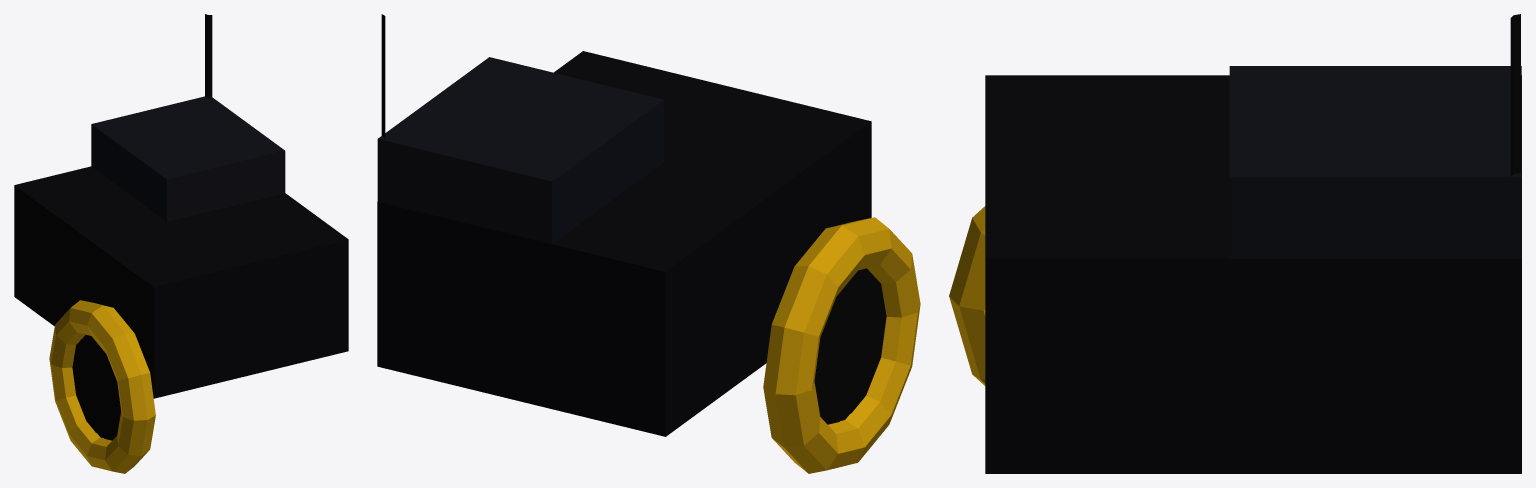
Rendered from rover7.obj.
3 renders of one model, left to right at view 1: azimuth 30°, elevation 25°; view 2: azimuth 150°, elevation 25°; view 3: azimuth 270°, elevation 25°, orthographic. The views are drawn at different scales.
Parts seen in each view (by area): view 1: Body, Body_Top, Wheel, Plane.001, Antenna; view 2: Body, Body_Top, Wheel, Plane.001, Antenna; view 3: Body, Body_Top, Wheel, Antenna.
Boxes of the visible parts, bbox=[...] form: Body: bbox=[14, 166, 348, 398]; Body_Top: bbox=[91, 96, 285, 221]; Wheel: bbox=[49, 300, 155, 473]; Plane.001: bbox=[72, 335, 121, 440]; Antenna: bbox=[205, 14, 212, 97]; Body: bbox=[377, 51, 871, 436]; Body_Top: bbox=[377, 57, 663, 243]; Wheel: bbox=[763, 217, 920, 473]; Plane.001: bbox=[814, 268, 886, 424]; Antenna: bbox=[381, 14, 385, 139]; Body: bbox=[985, 75, 1521, 473]; Body_Top: bbox=[1229, 66, 1521, 258]; Wheel: bbox=[949, 206, 985, 385]; Antenna: bbox=[1510, 14, 1520, 176].
Size of the model in its own units: 0.1786 by 0.2477 by 0.2034.
